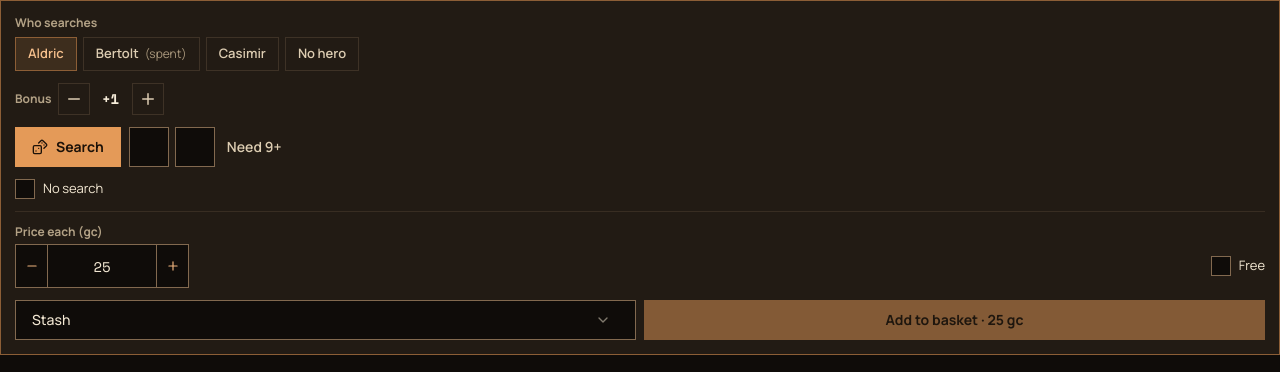
Scenario: AcquireForm › searches with the 2D6 typed in, its bonus added, and saves it
Expected: the message reads "Need 9+", [227, 137, 282, 157]
Click the button "Aldric": x=46, y=54 [15, 37, 77, 71]
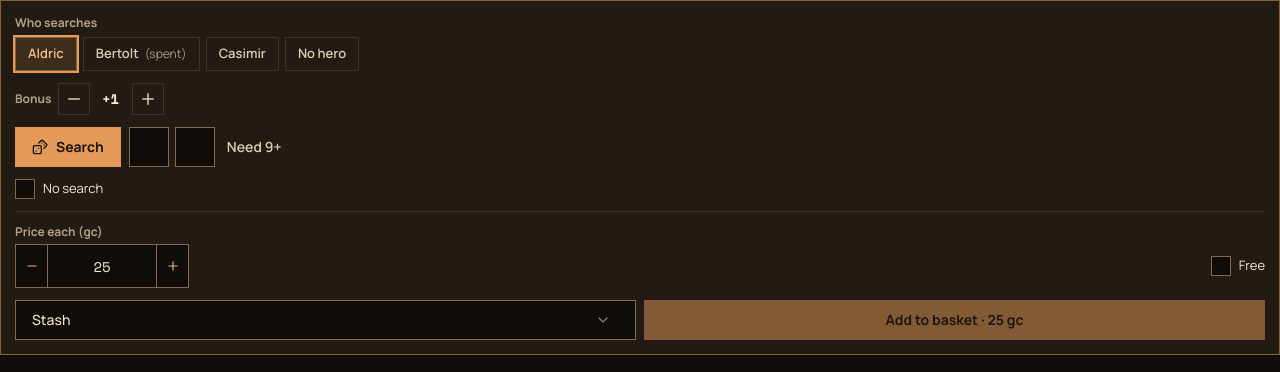
// the two boxes stand beside Search, always (William: no "or enter your dice")
In the field named "First D6 rolled": x=149, y=147 [129, 127, 169, 167], type "5"
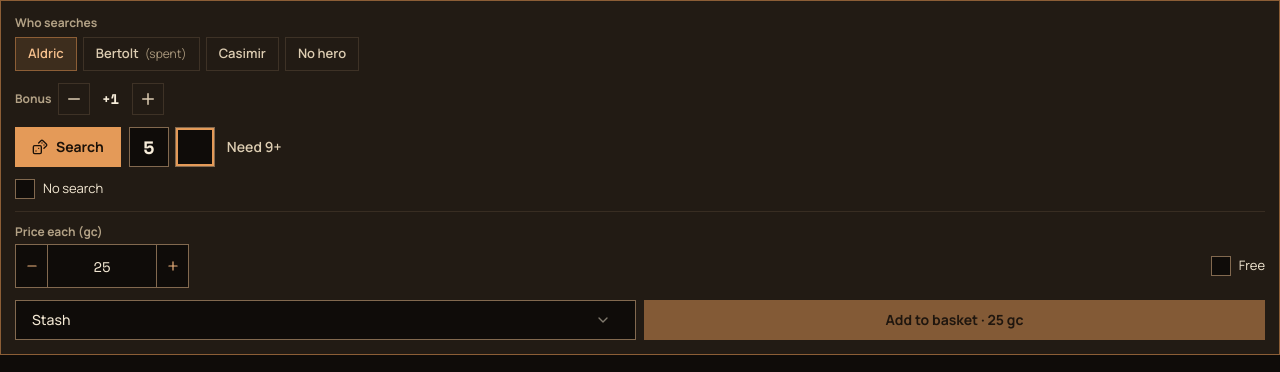
Type keys "3"
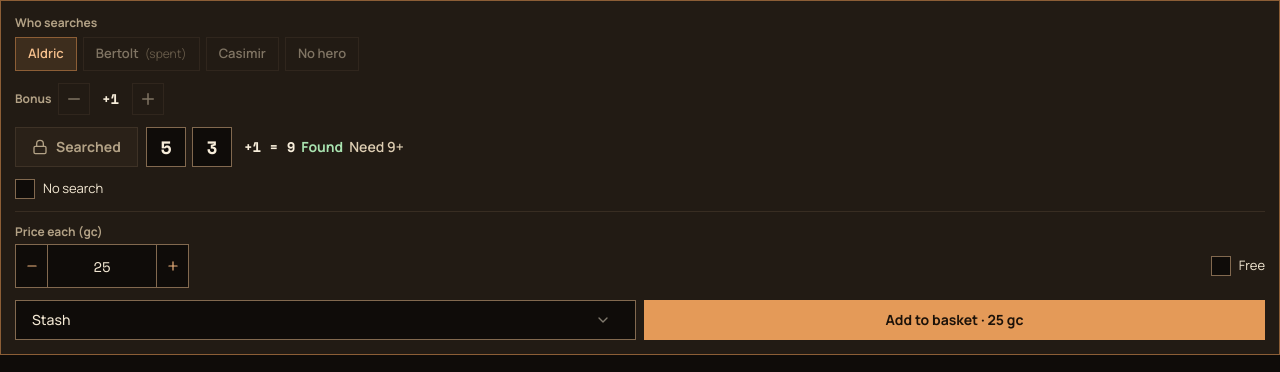
Expected: the message shows "+1 = 9 Found", [244, 137, 404, 157]
